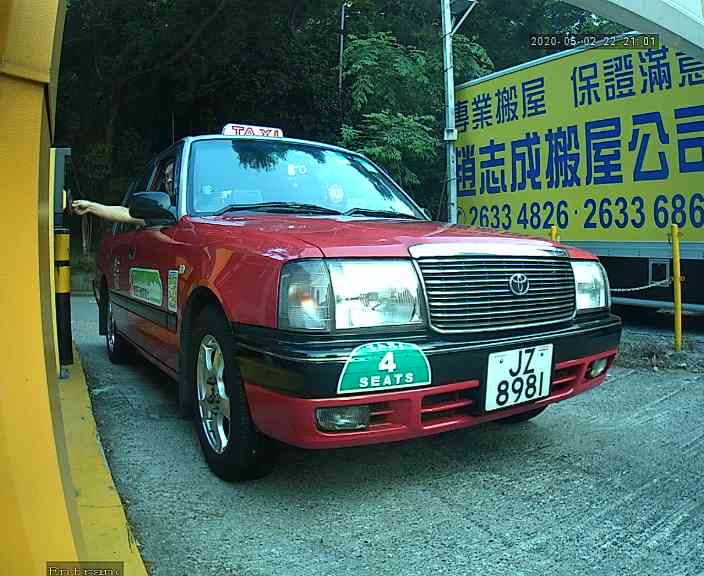taxi: (78, 95, 628, 500)
taxi_mark: (326, 333, 443, 407)
